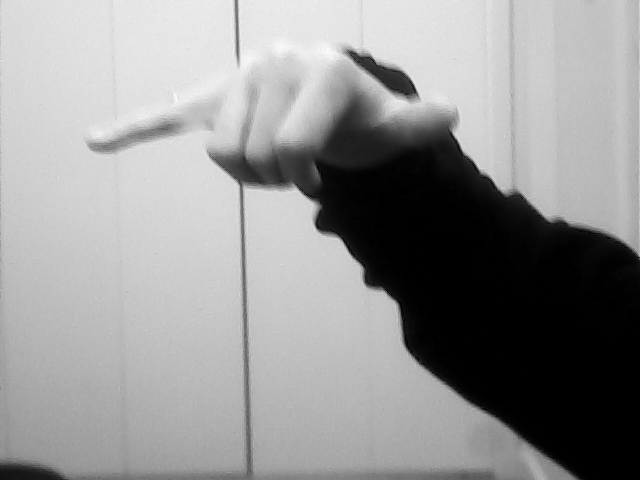aloha: (86, 41, 459, 199)
